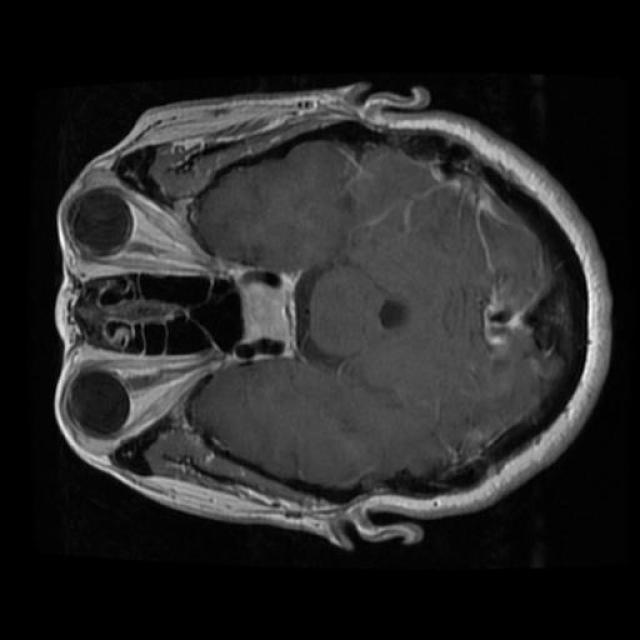Pituitary: (233, 267, 302, 361)
